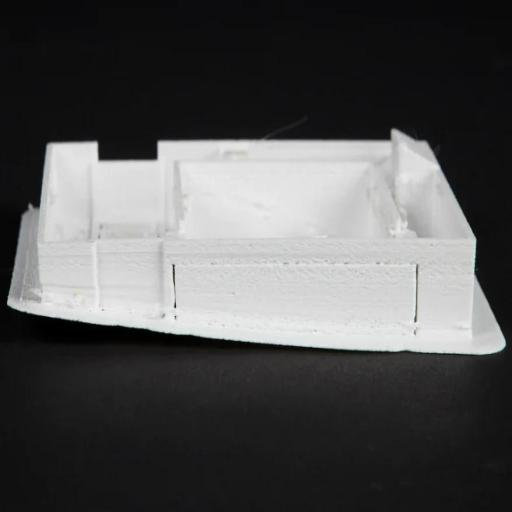cracks: (163, 257, 184, 325), (408, 255, 421, 341)
